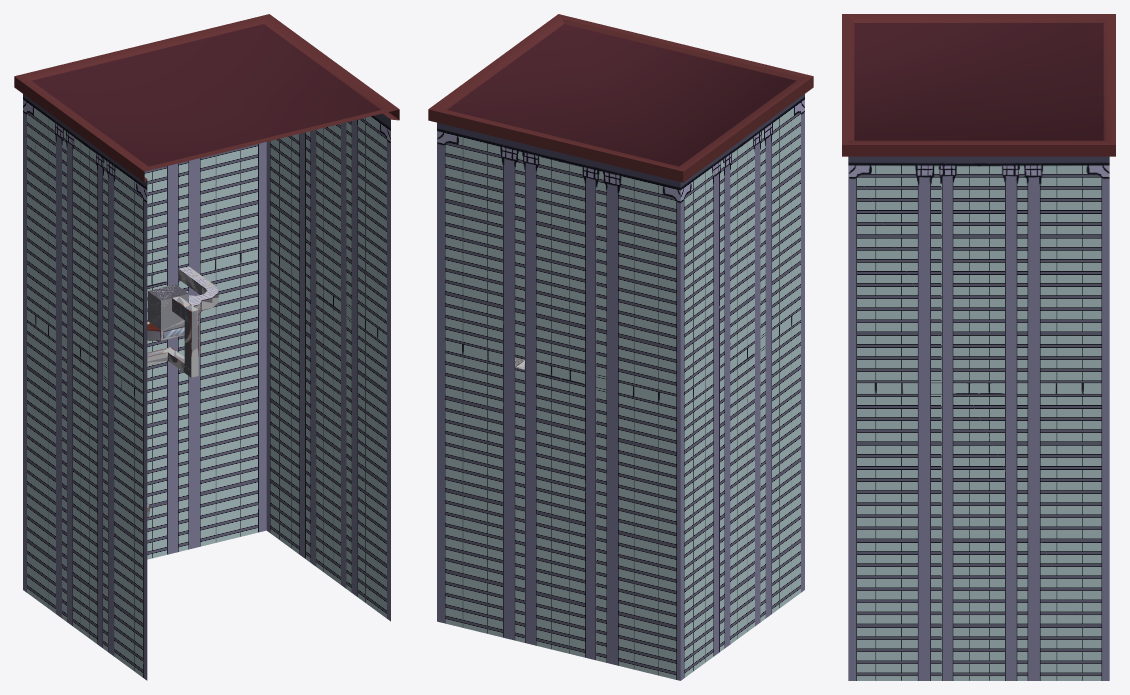
Rendered from Zone1.fbx.
3 renders of one model, left to right at view 1: azimuth 30°, elevation 25°; view 2: azimuth 150°, elevation 25°; view 3: azimuth 270°, elevation 25°, orthographic. The views are drawn at different scales.
Parts seen in each view (by area): view 1: Zone1, Zone1Base; view 2: Zone1; view 3: Zone1.
Part boxes in pixels (bbox=[...]): Zone1: bbox=[14, 14, 399, 680]; Zone1Base: bbox=[147, 267, 218, 510]; Zone1: bbox=[428, 14, 813, 680]; Zone1: bbox=[842, 14, 1115, 680].
Size of the model in its own units: 13545 by 26008 by 11977.
